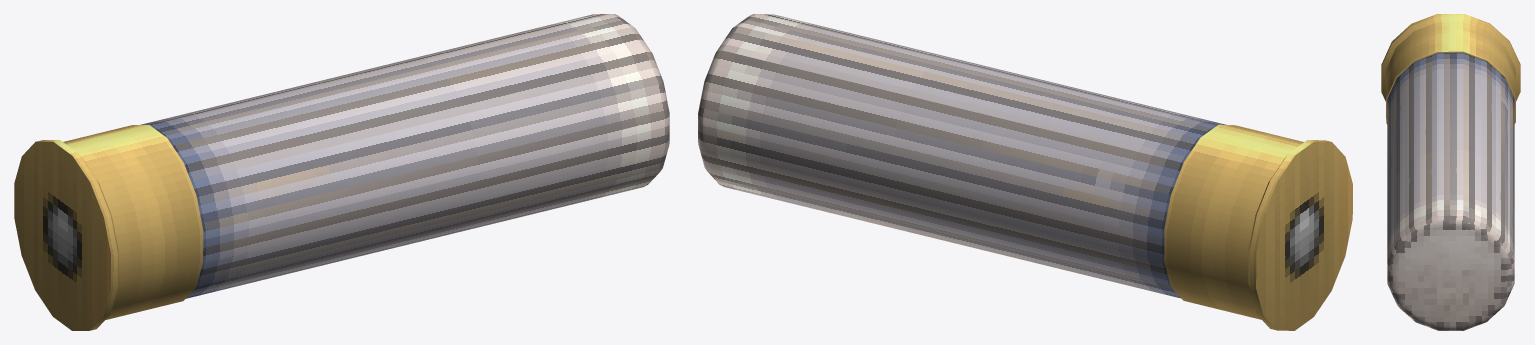
Rendered from ammomaker_HullShotgunL.fbx.
3 renders of one model, left to right at view 1: azimuth 30°, elevation 25°; view 2: azimuth 150°, elevation 25°; view 3: azimuth 270°, elevation 25°, orthographic. The views are drawn at different scales.
Parts seen in each view (by area): view 1: ammomaker_HullShotgunL; view 2: ammomaker_HullShotgunL; view 3: ammomaker_HullShotgunL.
Part boxes in pixels (box(x1,y1,x2,y2)): ammomaker_HullShotgunL: box(14, 14, 669, 330); ammomaker_HullShotgunL: box(698, 14, 1352, 330); ammomaker_HullShotgunL: box(1381, 14, 1520, 330).
Bounding box in the file's own units: 9.52 × 2.81 × 2.81.
